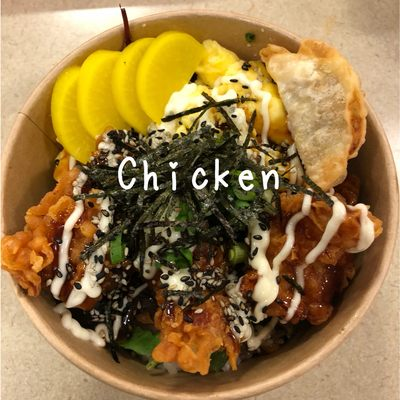pasta: (50, 22, 212, 163)
